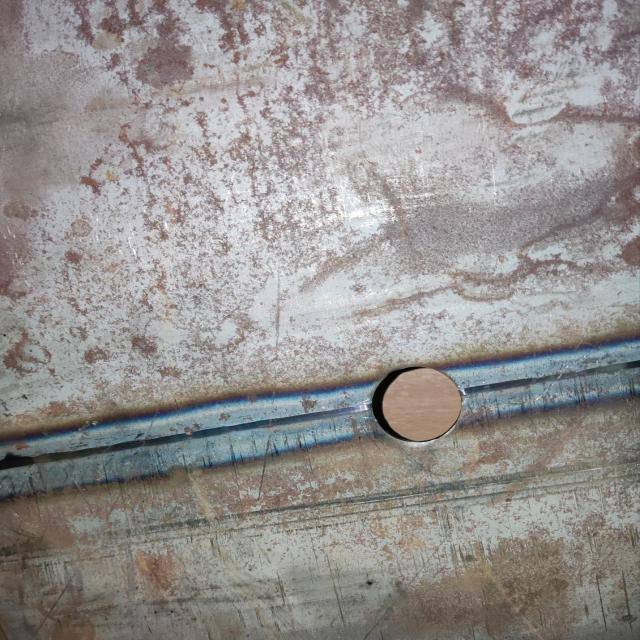seam: (0, 318, 639, 518)
